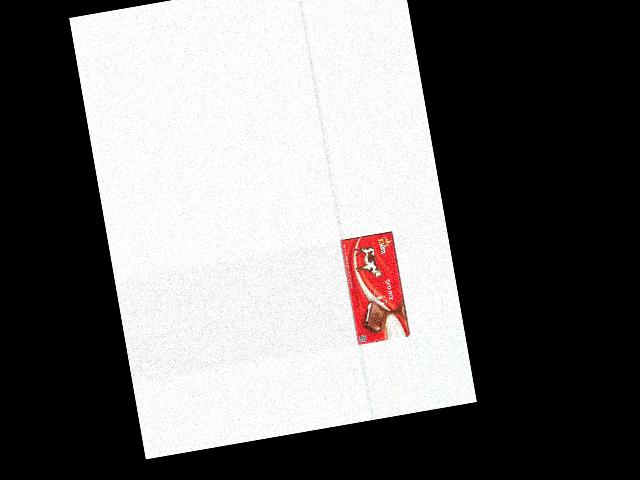chocolate: (339, 229, 410, 345)
